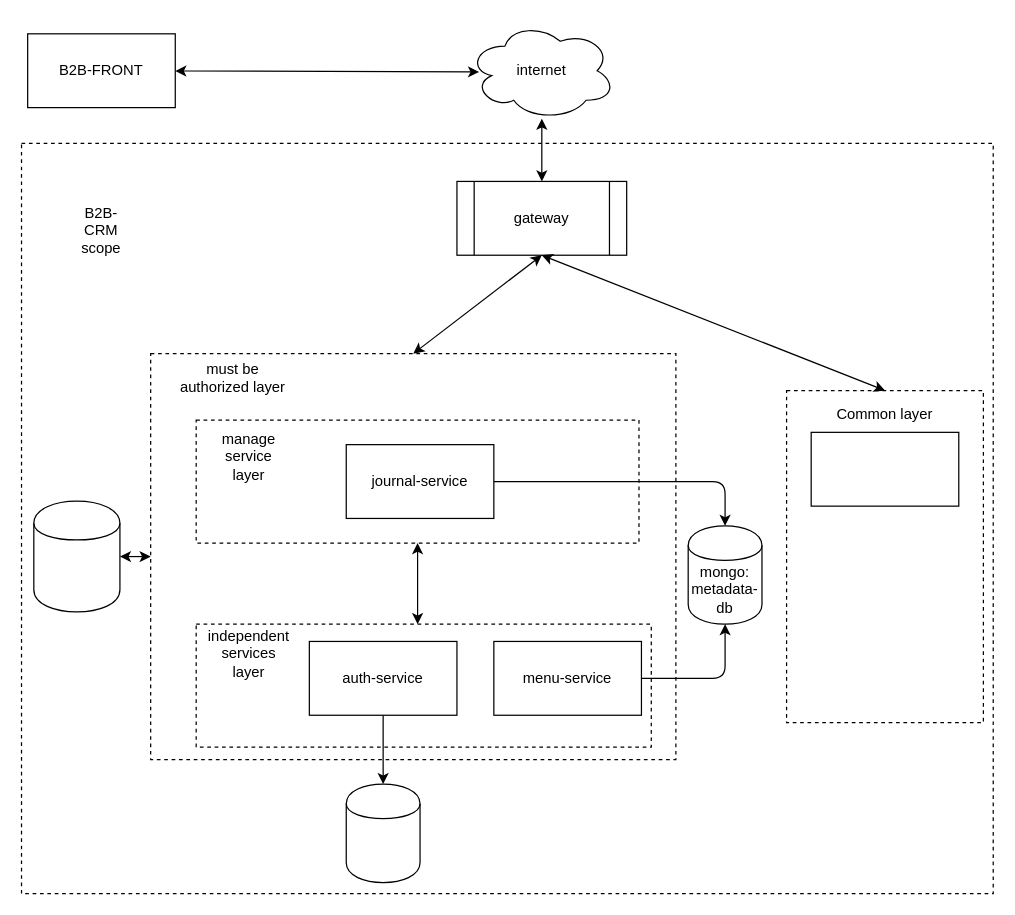
Image size: 1015x915. Some labels were removed from this diagram. Each missing label, with the centre of its shape:
kladr-service: point (884, 468)
mysql: auth-db: point (382, 833)
redis: redis-session-db: point (76, 556)
